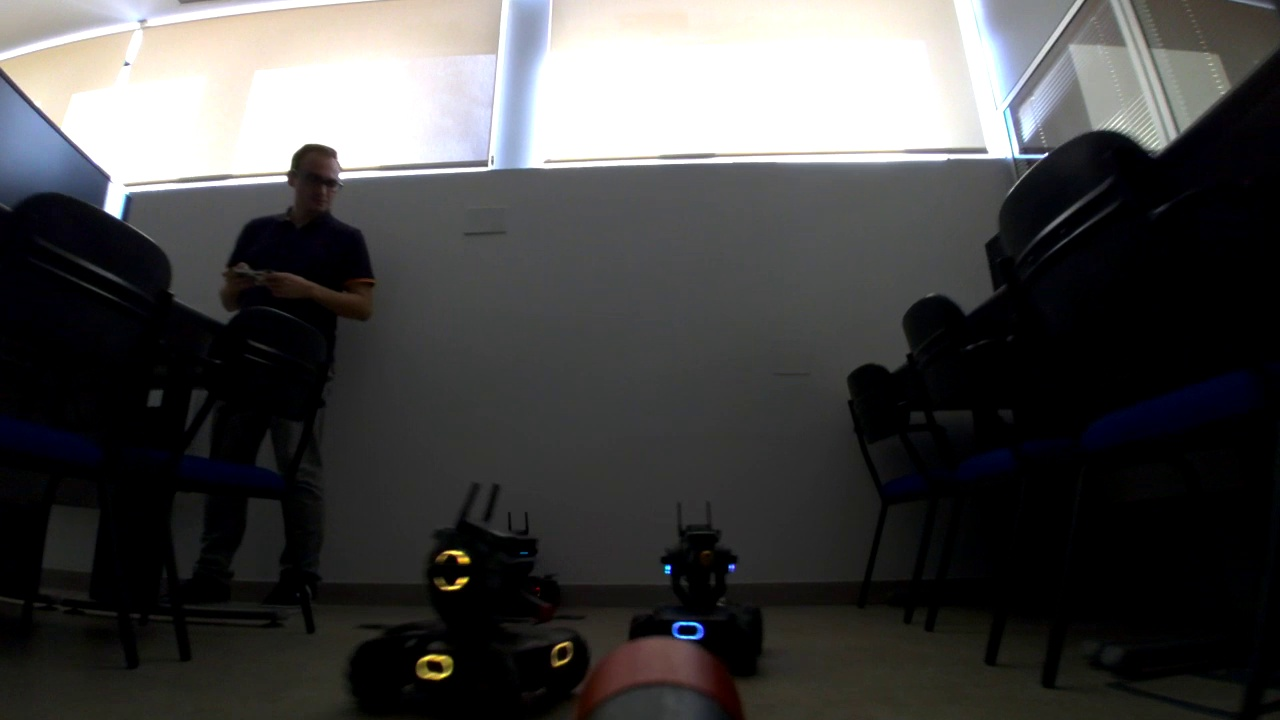robot: (350, 478, 587, 720), (629, 499, 764, 671), (483, 507, 558, 613)
